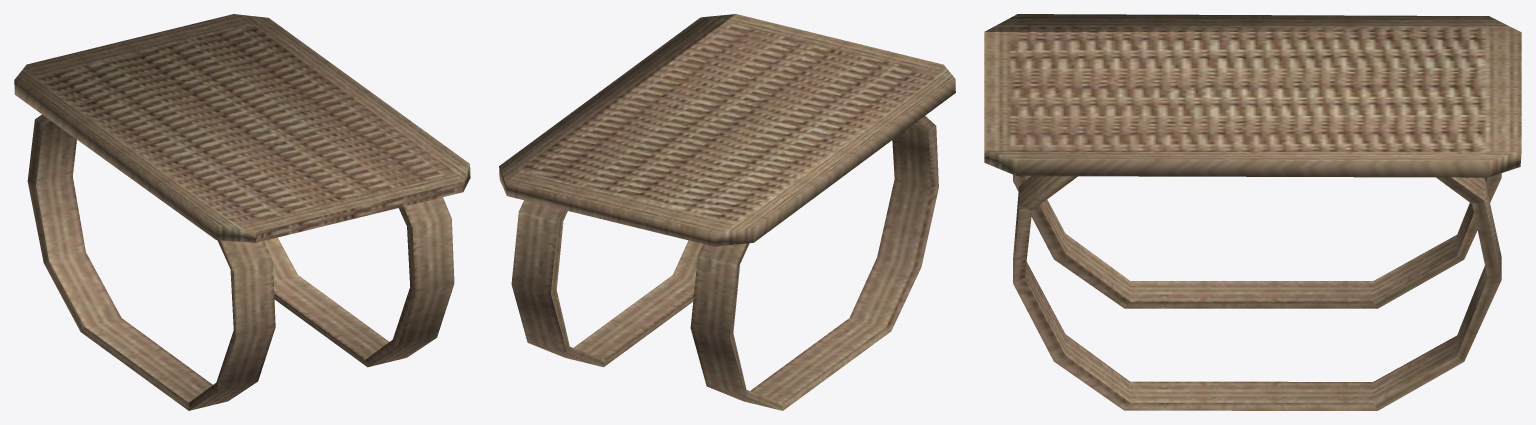
The model's file is it_wicker_table.fbx.
3 renders of one model, left to right at view 1: azimuth 30°, elevation 25°; view 2: azimuth 150°, elevation 25°; view 3: azimuth 270°, elevation 25°, orthographic. The views are drawn at different scales.
Parts seen in each view (by area): view 1: mesh_0; view 2: mesh_0; view 3: mesh_0.
Part boxes in pixels (x1,y1,x2,y2): mesh_0: (14,14,470,410); mesh_0: (499,14,955,410); mesh_0: (984,14,1521,410).
Bounding box in the file's own units: 51.84 × 43.56 × 81.04.
Materials: 1 (1 with a texture image).
